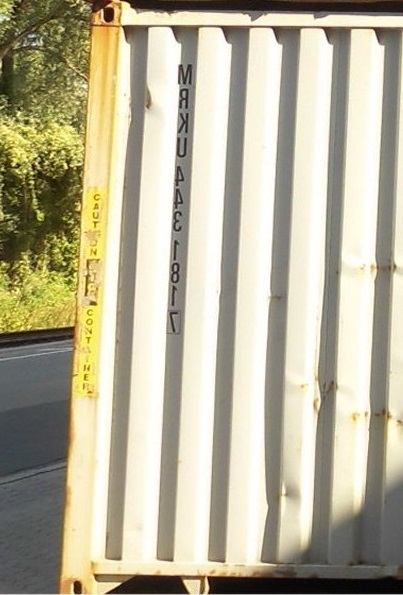container_no_door: (60, 8, 403, 589)
